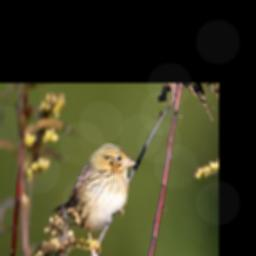Sparrow: (50, 141, 137, 256)
